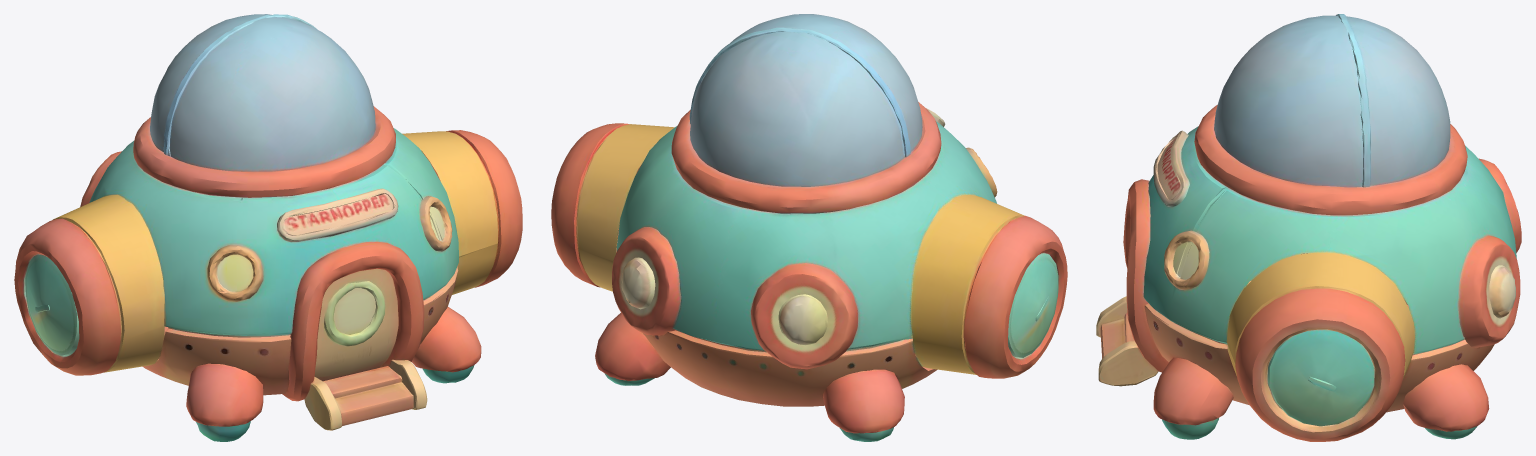
The model's file is StarhopperShip.fbx.
3 views of the same model, side by side, from view 1: azimuth 30°, elevation 25°; view 2: azimuth 150°, elevation 25°; view 3: azimuth 270°, elevation 25° (orthographic). The views are drawn at different scales.
Visible parts, largest first — view 1: StarhopperShip; view 2: StarhopperShip; view 3: StarhopperShip.
Boxes of the visible parts, box(x1,y1,x2,y2) form: StarhopperShip: box(14, 14, 522, 441); StarhopperShip: box(551, 14, 1067, 441); StarhopperShip: box(1096, 14, 1521, 441).
Bounding box in the file's own units: 410 × 317 × 285.
1 material, 1 textured.
